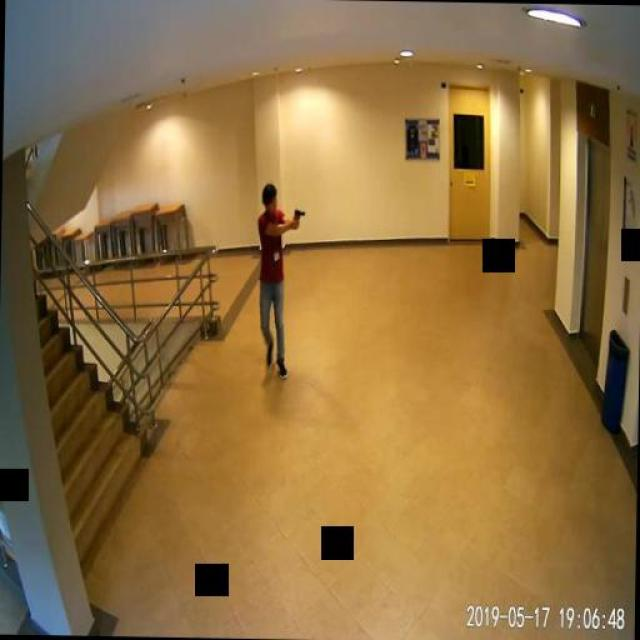gun: (292, 206, 304, 225)
